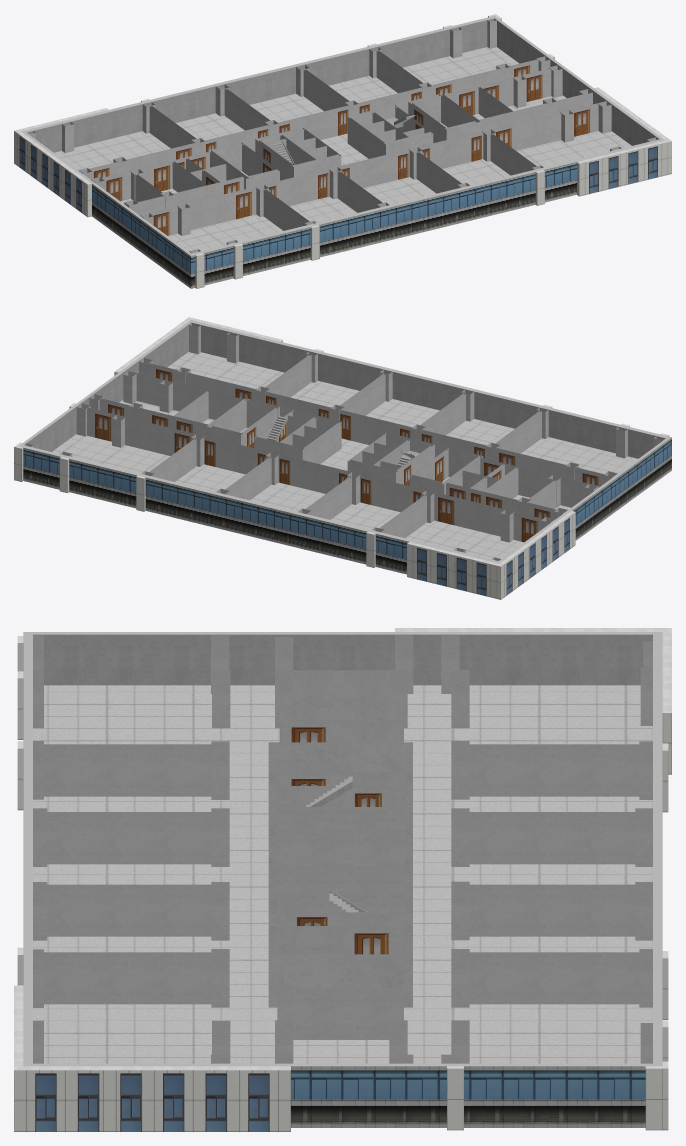
The picture shows the model from 3 angles, top to bottom: view 1: azimuth 30°, elevation 25°; view 2: azimuth 150°, elevation 25°; view 3: azimuth 270°, elevation 25°; orthographic projection. The views are drawn at different scales.
Parts seen in each view (by area): view 1: 3c; view 2: 3c; view 3: 3c.
Boxes of the visible parts, bbox=[...] form: 3c: bbox=[14, 14, 671, 288]; 3c: bbox=[14, 317, 671, 599]; 3c: bbox=[14, 628, 671, 1131].
Size of the model in its own units: 56.65 by 4.55 by 35.63.
12 materials, 10 textured.
